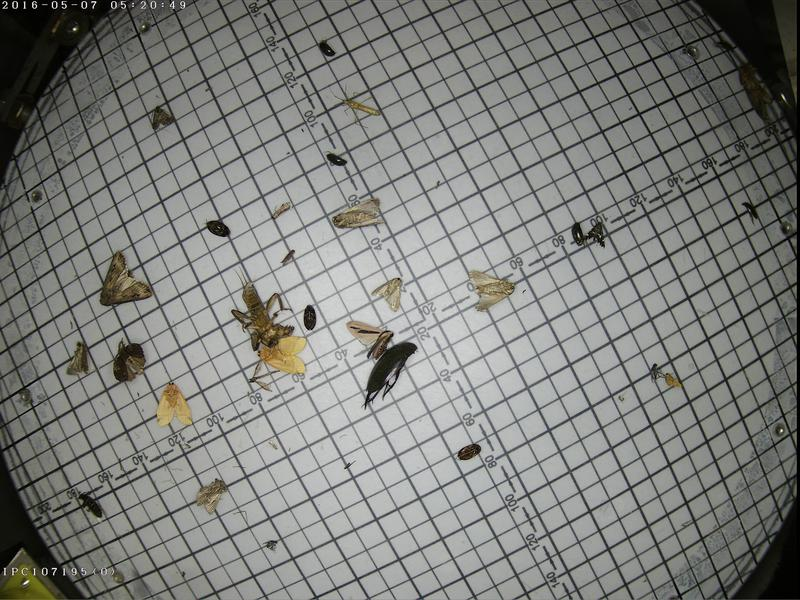Gryllotalpa orientalis: (230, 275, 296, 346)
Little Gecko: (95, 251, 147, 307)
Spodoptera exigua: (373, 273, 402, 307), (66, 338, 90, 371)
Spodoptera litura: (330, 195, 386, 232), (467, 266, 514, 310)
